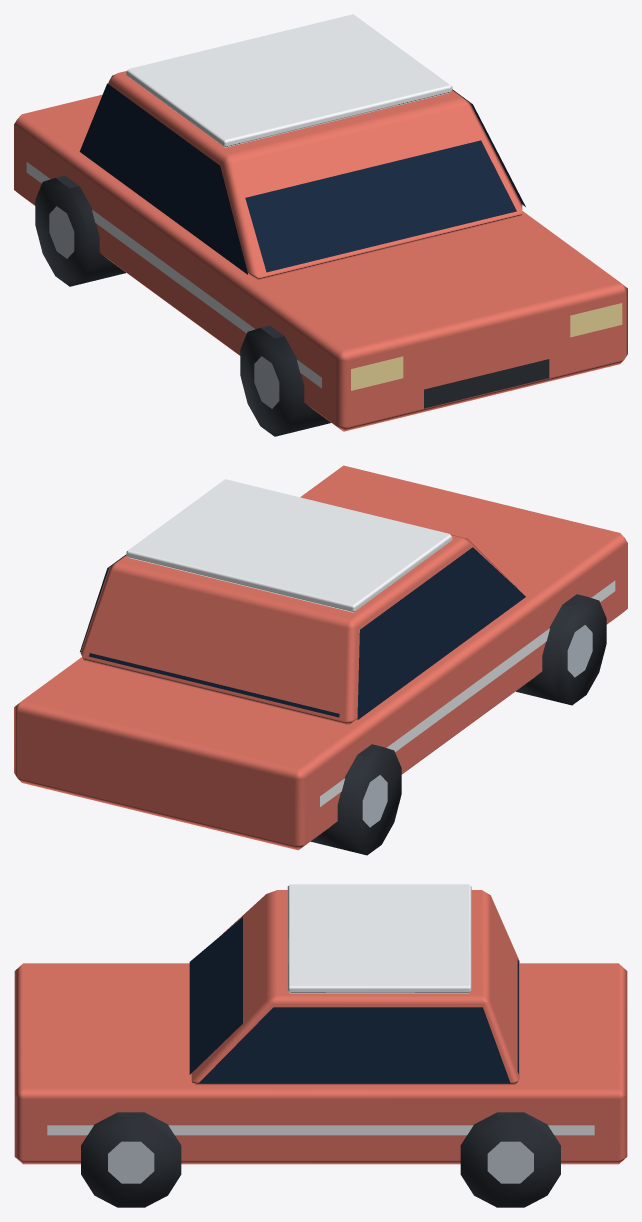
Rendered from CM_Prop_ParkedCar_Red.fbx.
3 views of the same model, one above another, from view 1: azimuth 30°, elevation 25°; view 2: azimuth 150°, elevation 25°; view 3: azimuth 270°, elevation 25° (orthographic). The views are drawn at different scales.
Parts seen in each view (by area): view 1: Body; view 2: Body; view 3: Body.
Boxes of the visible parts, left/top/right/bottom form: Body: left=14, top=14, right=627, bottom=436; Body: left=14, top=465, right=627, bottom=855; Body: left=14, top=884, right=627, bottom=1207.
Size of the model in its own units: 6 by 11 by 4.
Materials: 1 (1 with a texture image).
